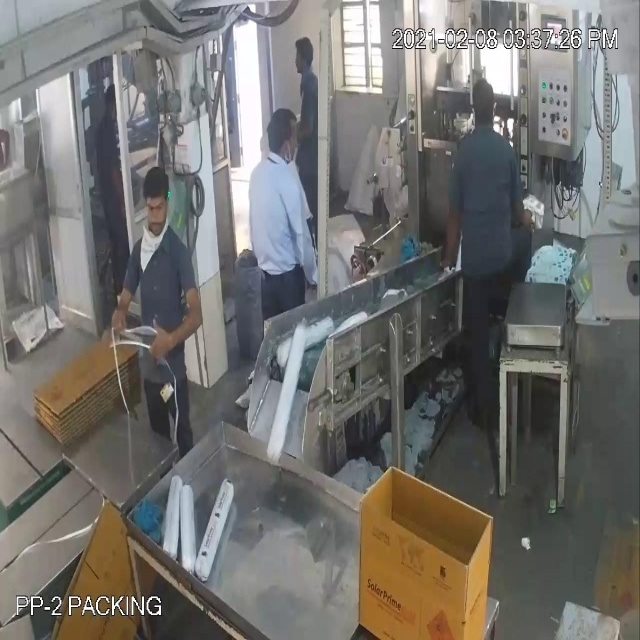Sin_guantes: (149, 276, 204, 361), (106, 277, 147, 341)
